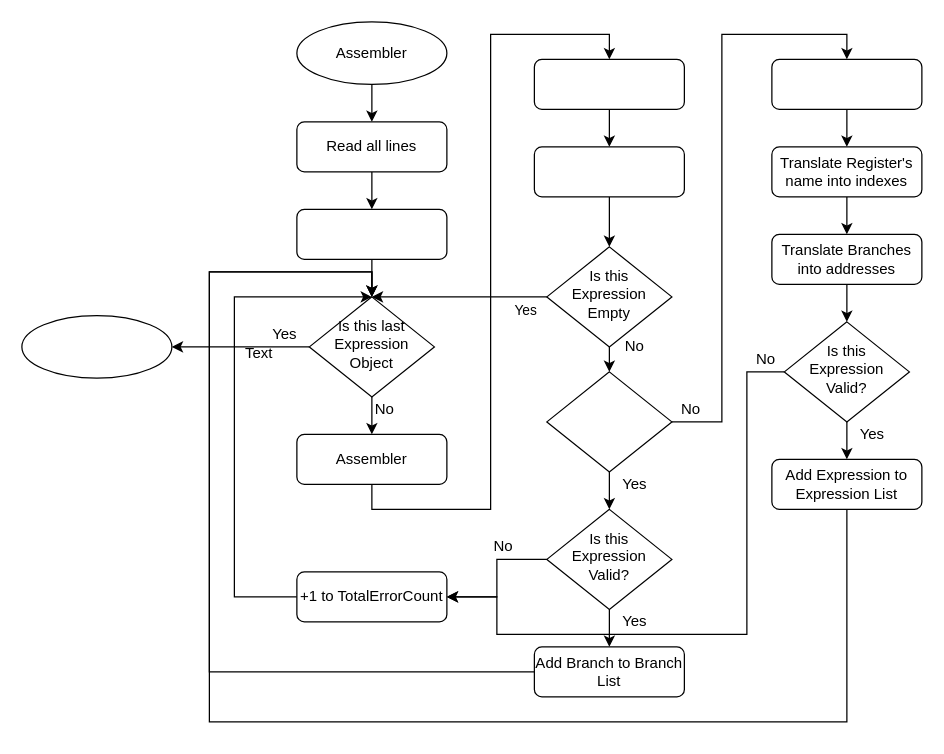
The diagram is 944 pixels wide and 754 high, and some of its shapes have lost their labels. Here are the shapes that lost their labels. From the top down, the centre of each, then its label:
the point at 608,83: Remove comments
the point at 846,83: Preprocess for Parsing
the point at 608,171: Remove Tabs
the point at 371,233: Store lines as Expression Objects
the point at 96,346: Translate into Machine Code
the point at 609,421: Is this Expression Branch
